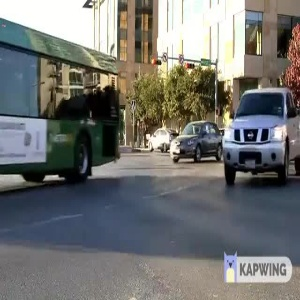bus: (1, 18, 120, 185)
car: (164, 123, 225, 168)
truck: (211, 84, 300, 194)
